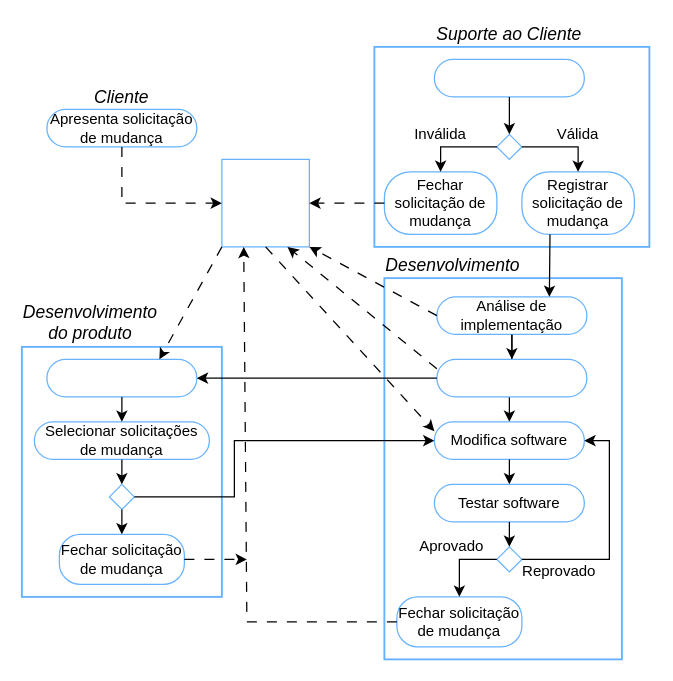
The diagram is 673 pixels wide and 681 high, and some of its shapes have lost their labels. Each missing label, with the centre of its shape:
Análise de custo/impacto: point 511,377
Avaliar solicitações de mudança: point 121,377
Solicitações de mudanças: point 265,202
Verificar solicitação de mudança: point 508,77
